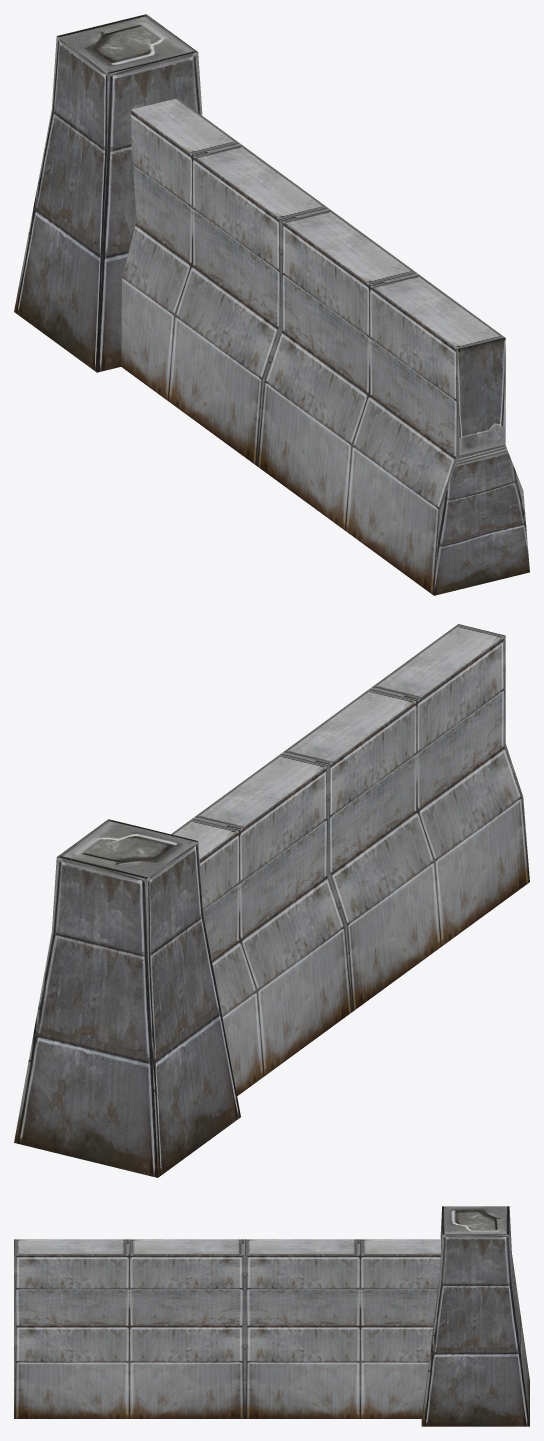
File: s_mediumwall_hdtex.glb
3 views of the same model, one above another, from view 1: azimuth 30°, elevation 25°; view 2: azimuth 150°, elevation 25°; view 3: azimuth 270°, elevation 25° (orthographic). The views are drawn at different scales.
Parts seen in each view (by area): view 1: S_MediumWall; view 2: S_MediumWall; view 3: S_MediumWall.
Part boxes in pixels (x1,y1,x2,y2): S_MediumWall: [14, 14, 529, 595]; S_MediumWall: [14, 624, 529, 1177]; S_MediumWall: [14, 1206, 529, 1426].
Bounding box in the file's own units: 6 × 11.19 × 28.6.
1 material, 1 textured.
